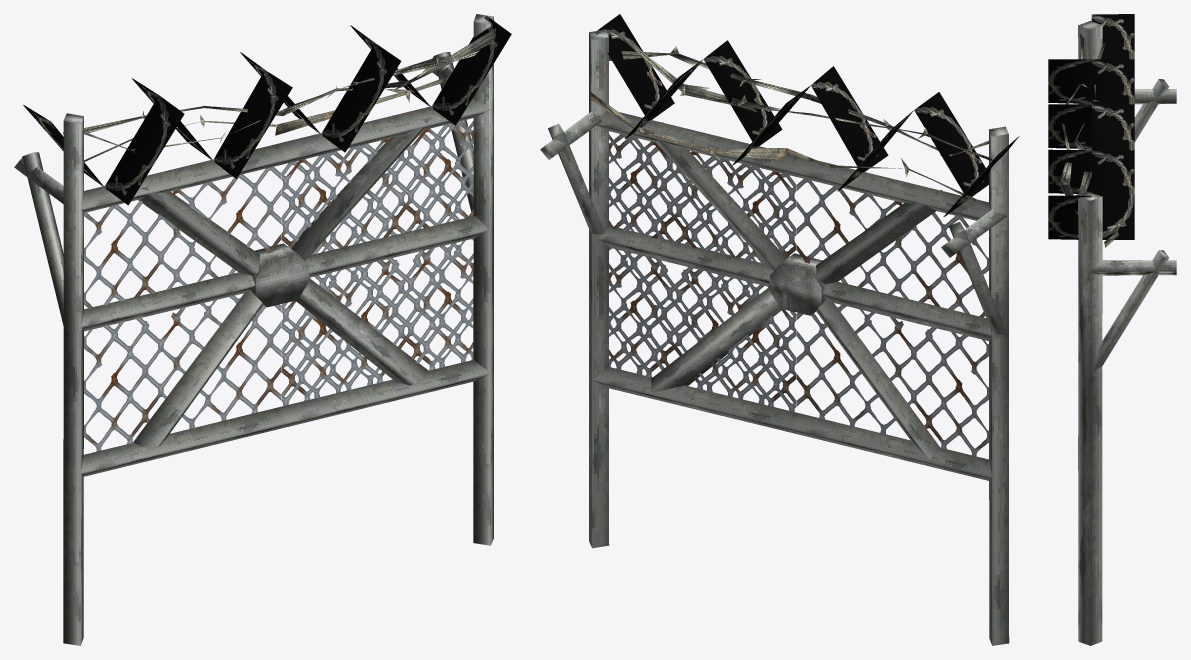
The model's file is barbedfence.FBX.
3 renders of one model, left to right at view 1: azimuth 30°, elevation 25°; view 2: azimuth 150°, elevation 25°; view 3: azimuth 270°, elevation 25°, orthographic. The views are drawn at different scales.
Visible parts, largest first — view 1: FRAG2, FRAG3, FRAG1, C1SMHIGHFENCEH; view 2: FRAG2, FRAG3, FRAG1, C1SMHIGHFENCEH; view 3: FRAG2, FRAG1.
Part boxes in pixels (bbox=[...]): FRAG2: bbox=[77, 14, 511, 545]; FRAG3: bbox=[63, 130, 473, 645]; FRAG1: bbox=[14, 70, 296, 331]; C1SMHIGHFENCEH: bbox=[81, 360, 490, 476]; FRAG2: bbox=[540, 14, 991, 548]; FRAG3: bbox=[609, 143, 1009, 645]; FRAG1: bbox=[785, 66, 1019, 338]; C1SMHIGHFENCEH: bbox=[592, 367, 991, 480]; FRAG2: bbox=[1048, 104, 1176, 645]; FRAG1: bbox=[1048, 14, 1176, 150].
Size of the model in its own units: 5.72 by 6.43 by 1.67.
10 materials, 10 textured.
